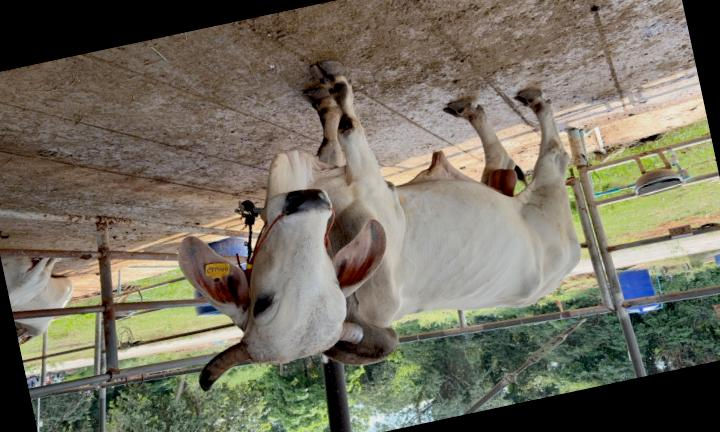Brahman: (179, 61, 581, 391)
